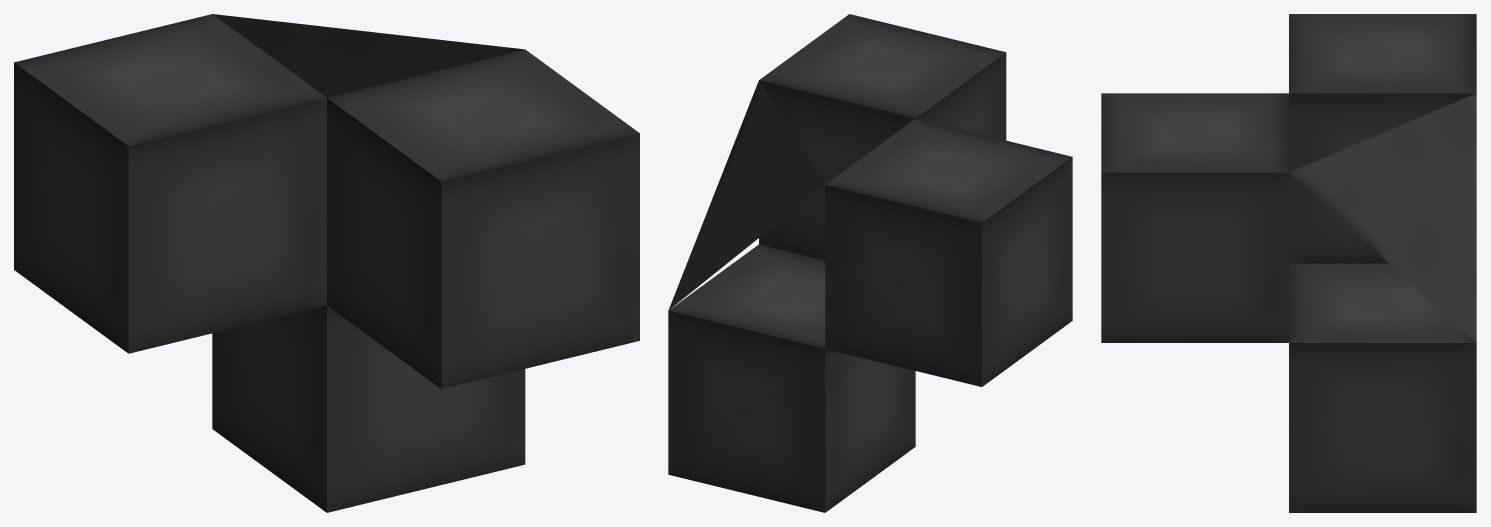
3 views of the same model, side by side, from view 1: azimuth 30°, elevation 25°; view 2: azimuth 150°, elevation 25°; view 3: azimuth 270°, elevation 25° (orthographic). The views are drawn at different scales.
Parts seen in each view (by area): view 1: ne, ne.001; view 2: ne, ne.001; view 3: ne, ne.001.
Boxes of the visible parts, box(x1,y1,x2,y2) form: ne: box(14, 14, 639, 512); ne.001: box(213, 14, 524, 97); ne: box(668, 14, 1072, 512); ne.001: box(668, 81, 824, 310); ne: box(1101, 14, 1476, 512); ne.001: box(1289, 93, 1476, 342).
Bounding box in the file's own units: 0.125 × 0.125 × 0.125.
Materials: 1 (1 with a texture image).
